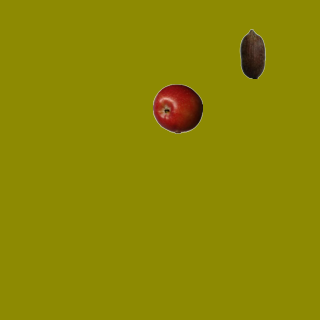Apple Braeburn: (152, 83, 202, 133)
Nut Pecan: (227, 28, 277, 78)
